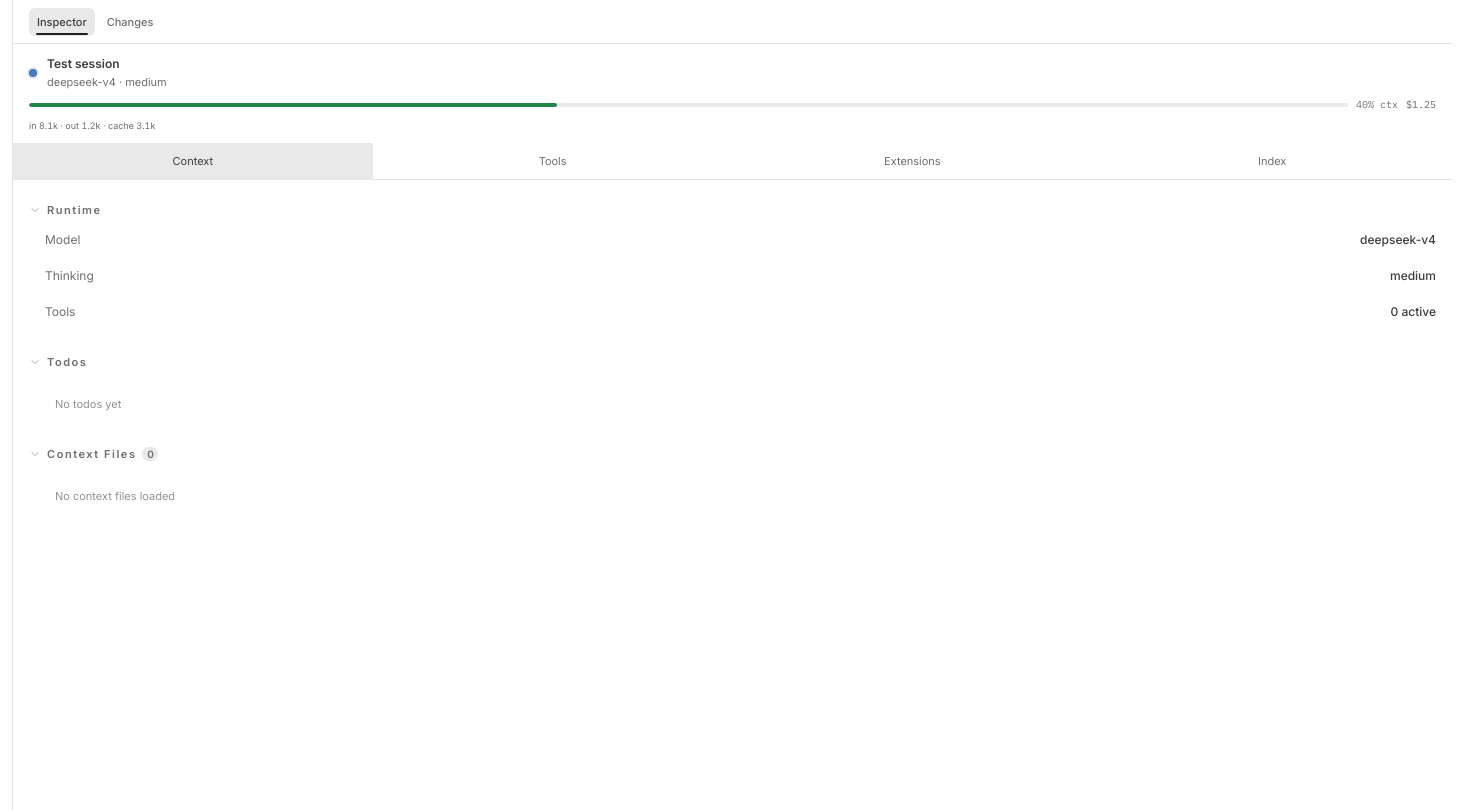
it: ResourceInspector › Index tab › search renders results from api.indexSearch
Click the tab "Index": (1272, 161) top-left (1092, 143), bottom-right (1452, 179)
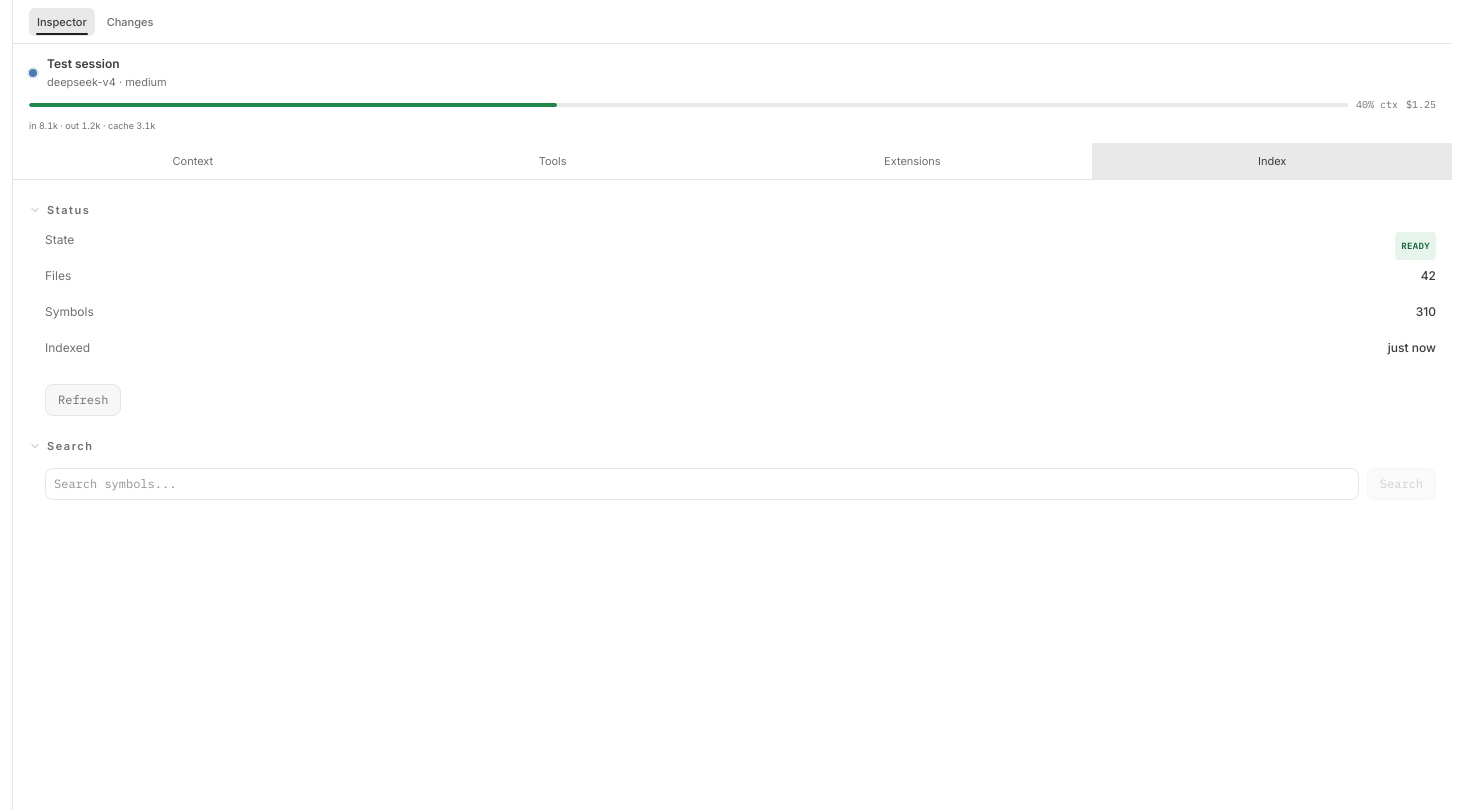
In the field with placeholder "Search symbols...": (702, 484) top-left (45, 468), bottom-right (1359, 500), type "myFunc"
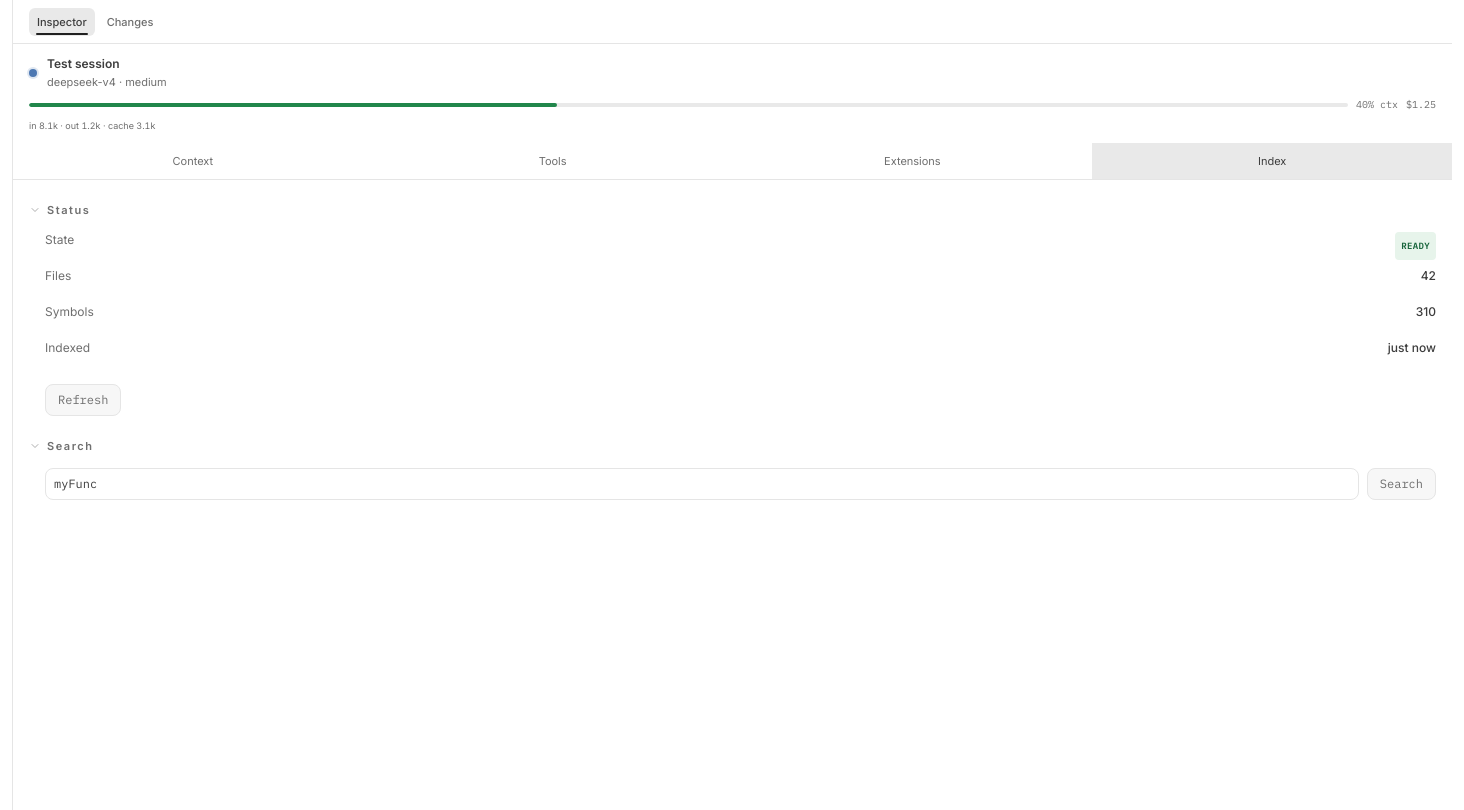
Click the button with class "index-search-btn": (1401, 484) top-left (1367, 468), bottom-right (1436, 500)
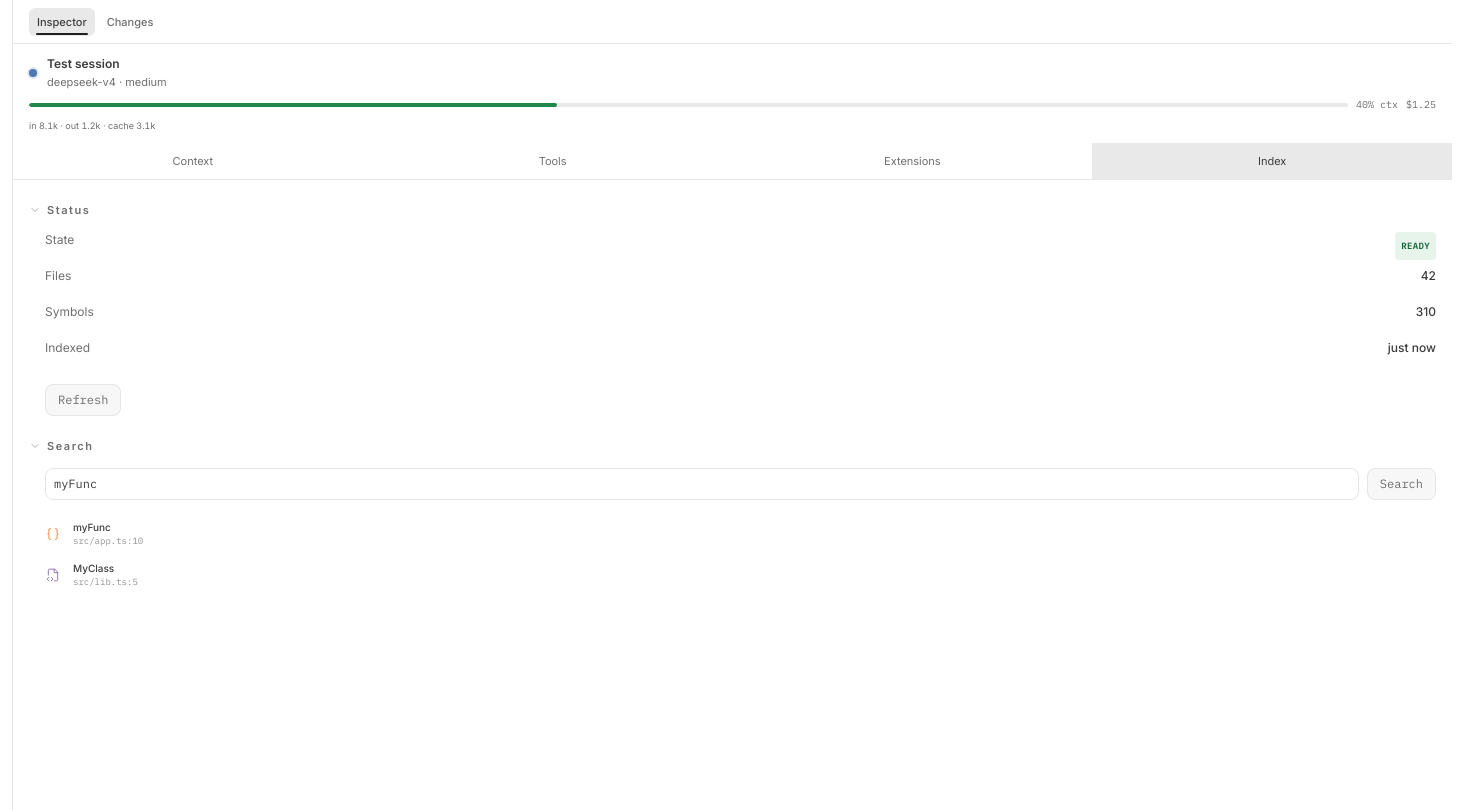
expect the text "myFunc" is shown: met, box top-left (73, 521), bottom-right (111, 533)
expect the text "MyClass" is shown: met, box top-left (73, 562), bottom-right (114, 574)
expect the text "src/app.ts:10" is shown: met, box top-left (73, 535), bottom-right (143, 546)
